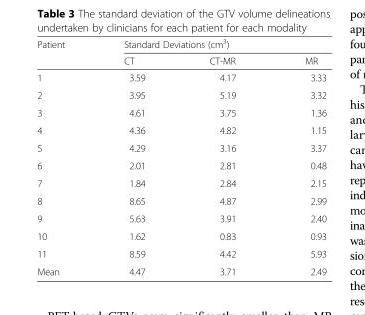table: (36, 36, 325, 276)
table column: (176, 36, 269, 276), (93, 36, 176, 276), (36, 36, 93, 276), (269, 36, 325, 276)
table column header: (36, 36, 325, 68)
table row: (36, 85, 325, 103), (36, 103, 325, 121), (36, 138, 325, 156), (36, 156, 325, 174), (36, 191, 325, 209), (36, 209, 325, 227), (36, 244, 325, 262), (36, 68, 325, 85), (36, 121, 325, 138), (36, 174, 325, 191), (36, 227, 325, 244), (36, 36, 325, 52), (36, 52, 325, 68), (36, 262, 325, 276)
table spanning cell: (93, 36, 325, 52), (36, 36, 93, 68)
